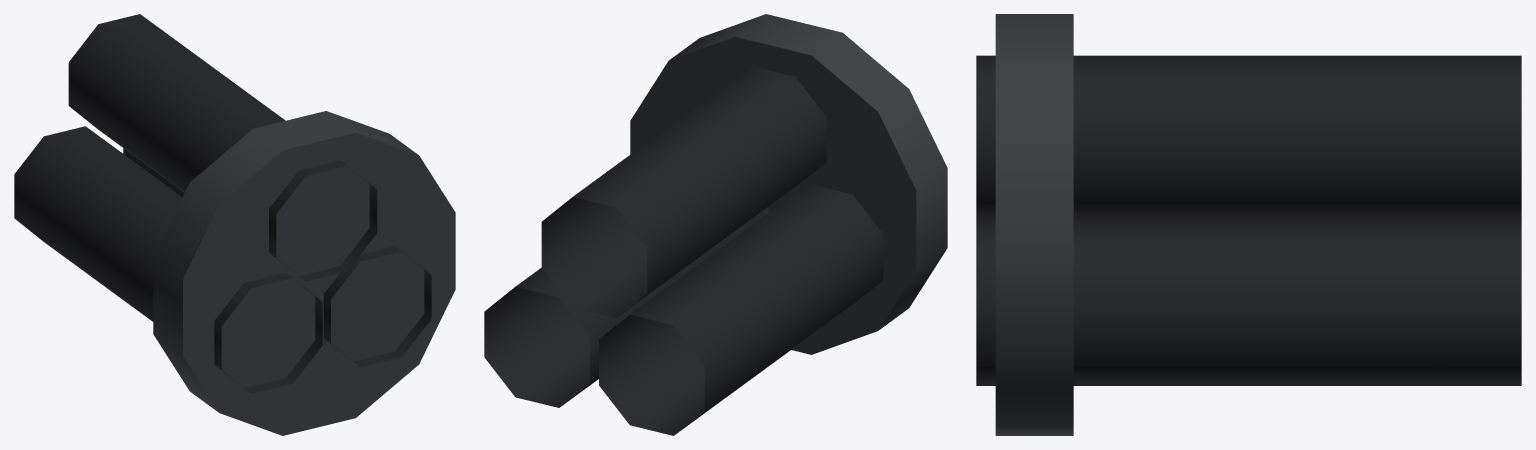
Rendered from arm_cable_north.obj.
The picture shows the model from 3 angles, left to right: view 1: azimuth 30°, elevation 25°; view 2: azimuth 150°, elevation 25°; view 3: azimuth 270°, elevation 25°; orthographic projection. The views are drawn at different scales.
Parts seen in each view (by area): view 1: arm_cable_north; view 2: arm_cable_north; view 3: arm_cable_north.
Boxes of the visible parts, <box> form: arm_cable_north: <box>14,14,455,435</box>; arm_cable_north: <box>484,14,947,435</box>; arm_cable_north: <box>976,14,1521,435</box>.
Size of the model in its own units: 0.2656 by 0.2656 by 0.35.
